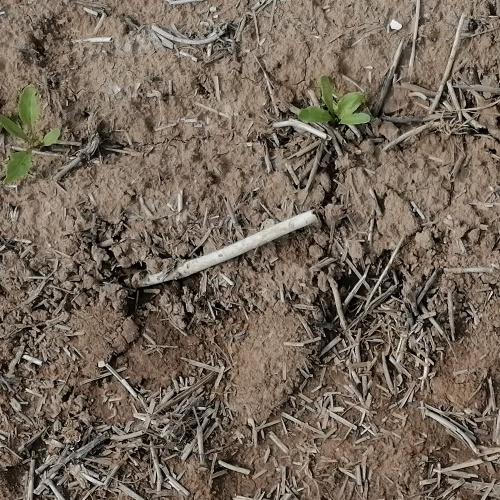beet: (0, 81, 62, 181), (296, 73, 370, 130)
